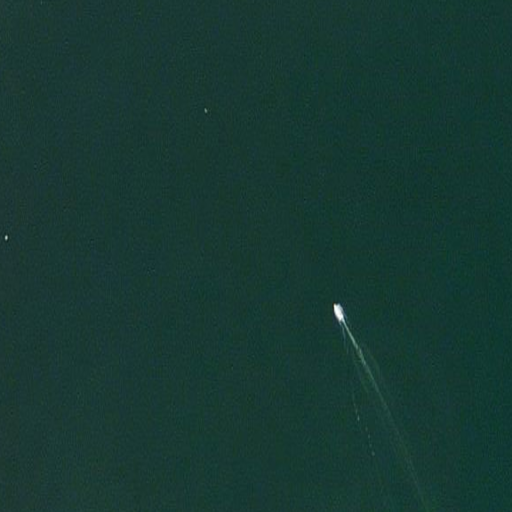ship: (331, 301, 346, 325)
